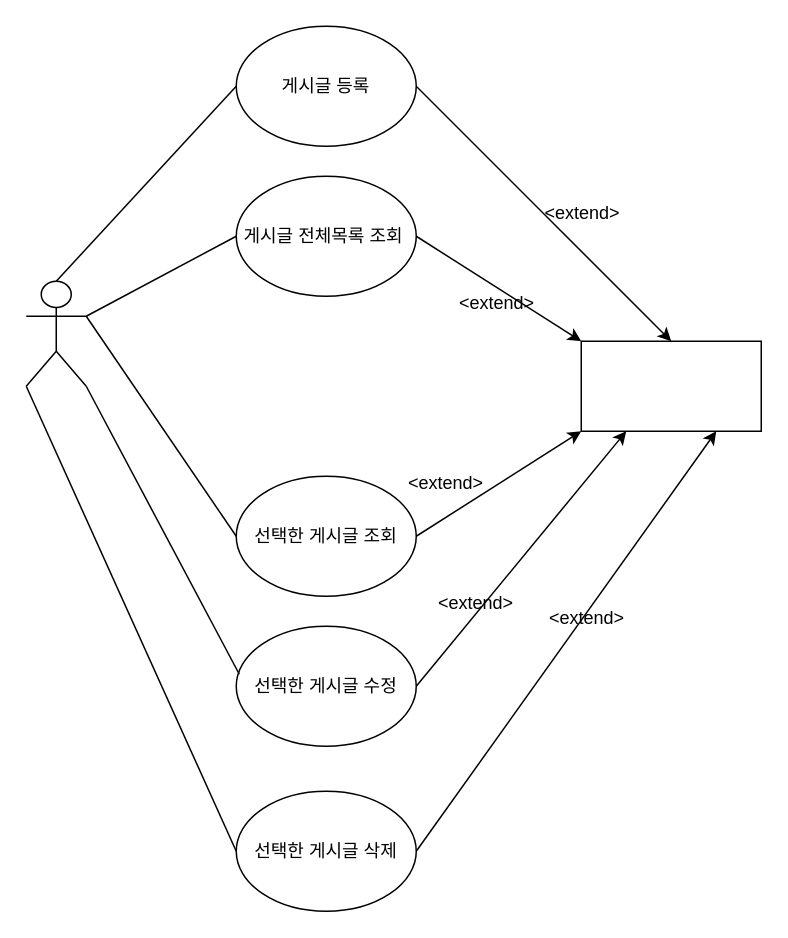
Image size: 788x938. Some labels were removed from this diagram. The shapes that lost their labels are listed below. From the top down, each one's centre as x and y in pixels, then its label:
point 55,333: Actor
point 670,385: 데이터베이스
